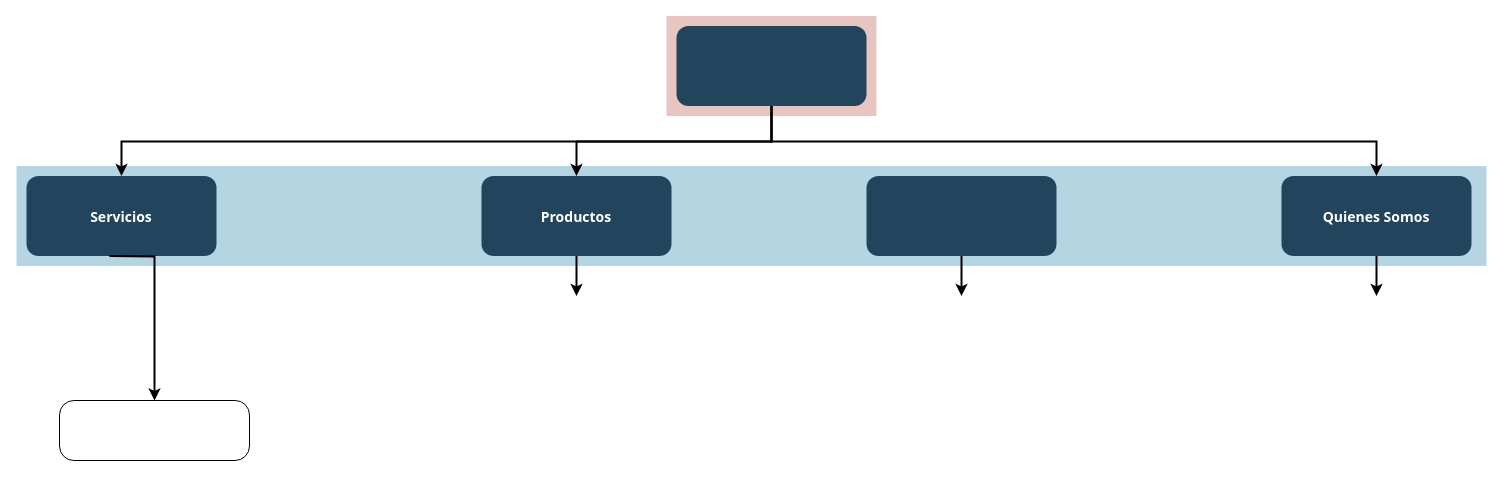
This 1503x477 diagram has some shape labels left out. Each missing label, with the centre of its shape:
"Contacto" goes at pixel 961 216.
"Inicio" goes at pixel 771 66.
